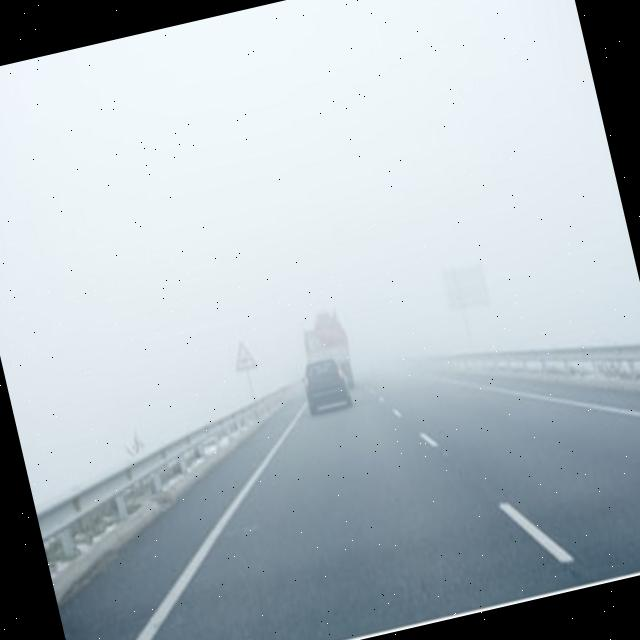bus: (299, 304, 361, 396)
car: (300, 352, 354, 416)
